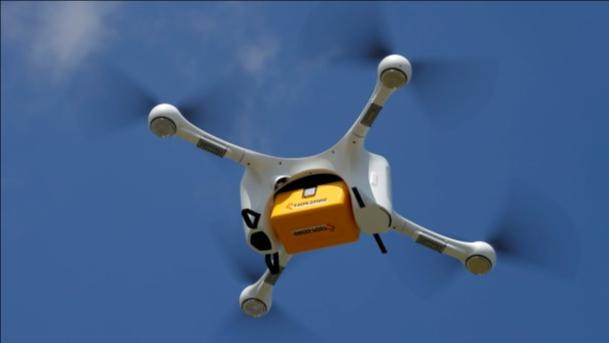drone: (140, 39, 519, 320)
